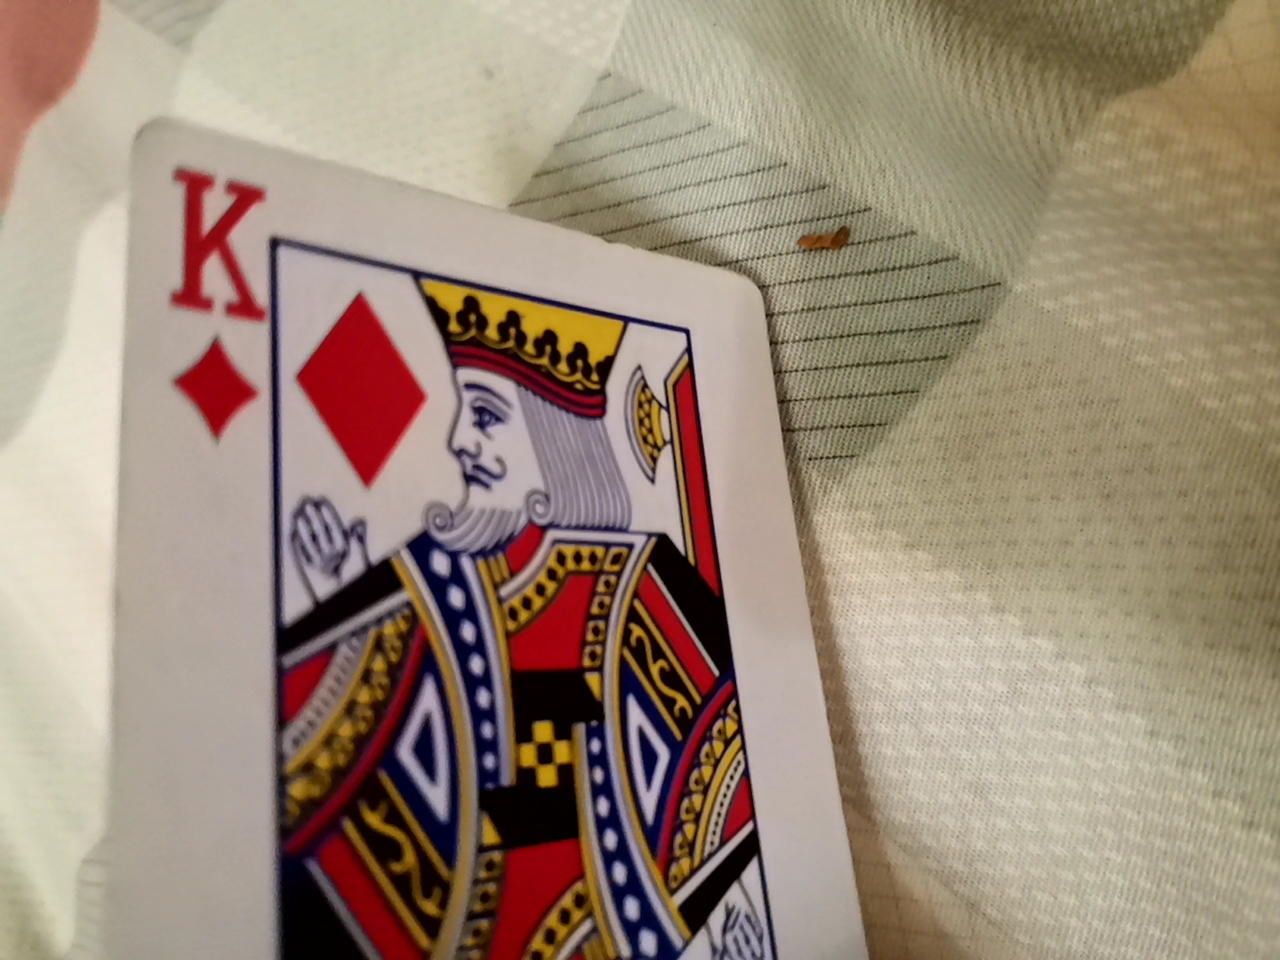fk k: (120, 194, 889, 960)
